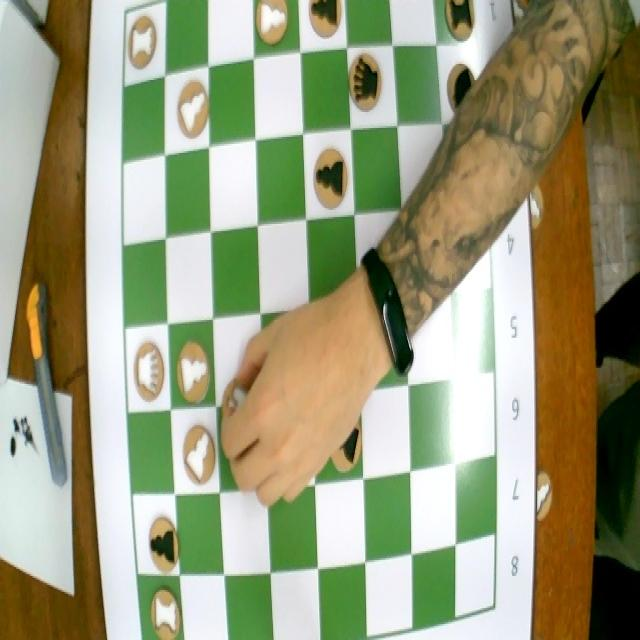chess-pieces: (306, 138, 351, 213), (178, 68, 218, 152), (128, 325, 166, 413), (170, 332, 212, 403), (176, 420, 219, 487), (346, 45, 386, 113), (139, 504, 178, 573), (139, 586, 186, 640), (128, 19, 163, 80), (442, 58, 476, 118), (254, 0, 291, 51), (440, 0, 480, 46), (308, 0, 346, 47)
